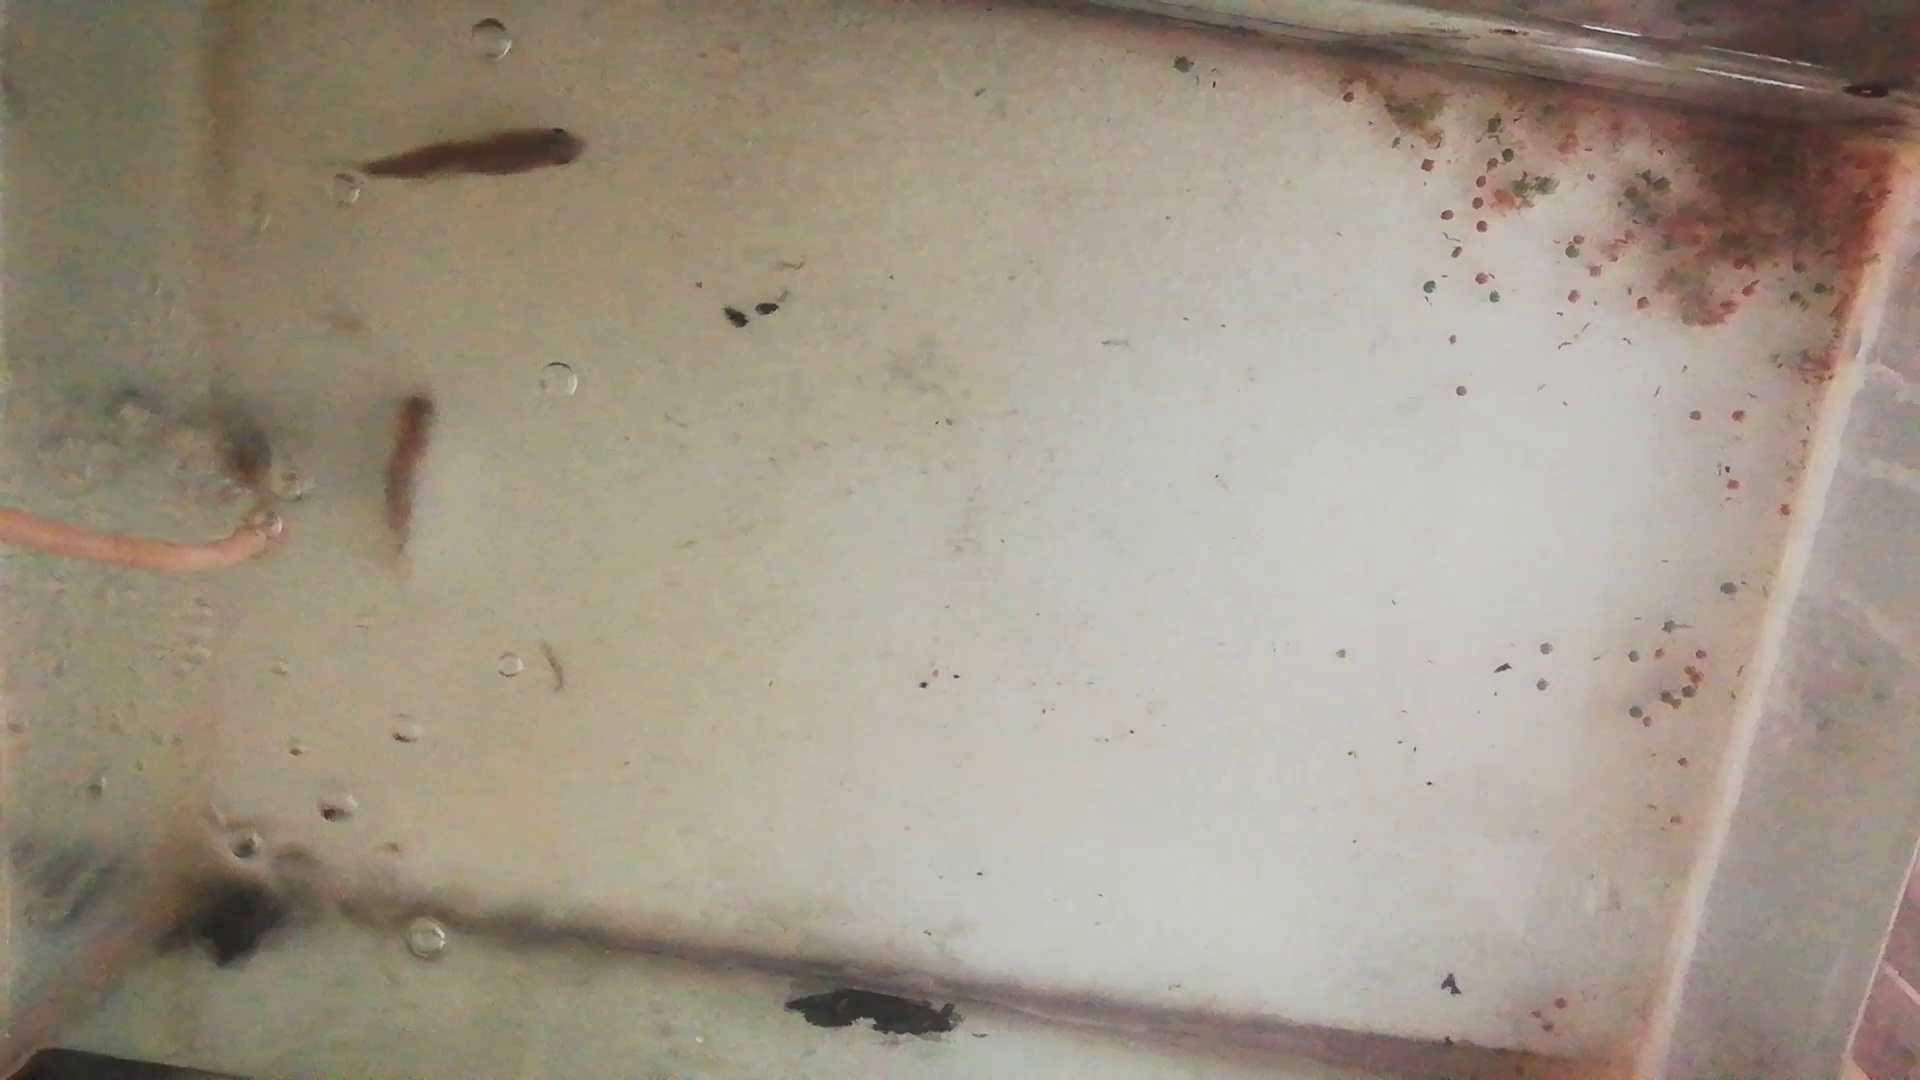fish: (355, 129, 589, 187), (385, 375, 438, 570)
